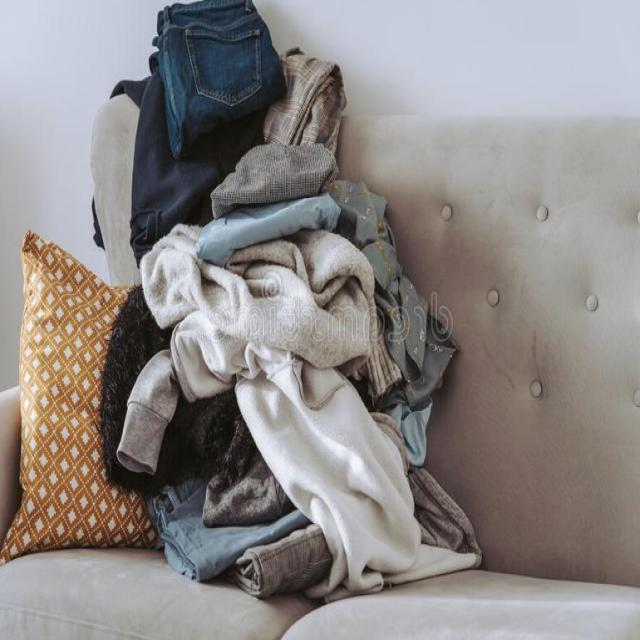clothes: (60, 42, 320, 596)
